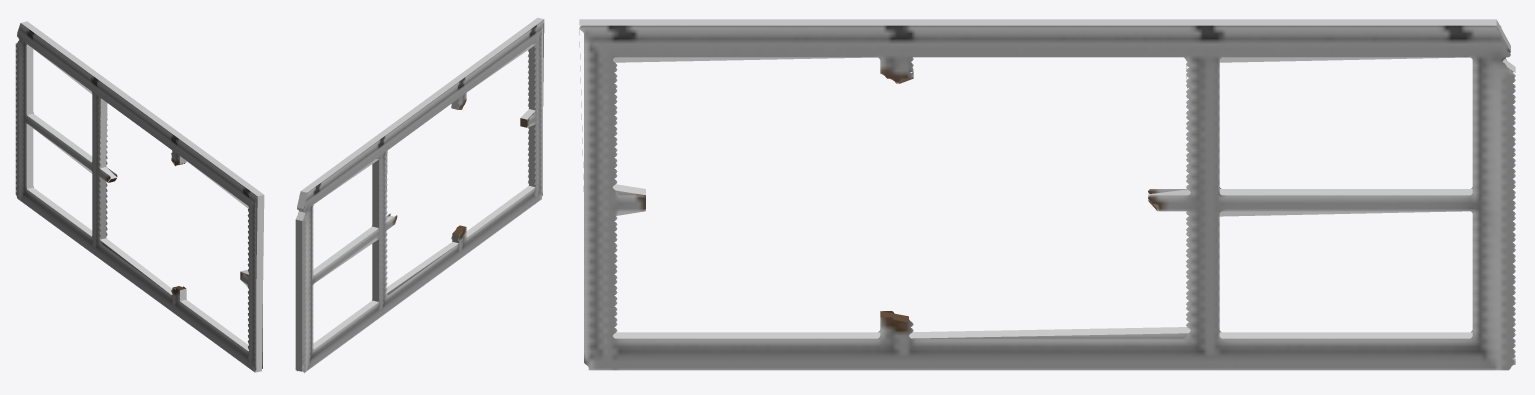
File: pz_native_fixtures_windows_white_102_frame.obj
The picture shows the model from 3 angles, left to right: view 1: azimuth 30°, elevation 25°; view 2: azimuth 150°, elevation 25°; view 3: azimuth 270°, elevation 25°; orthographic projection. The views are drawn at different scales.
Visible parts, largest first — view 1: pz_native_fixtures_windows_white_102_frame; view 2: pz_native_fixtures_windows_white_102_frame; view 3: pz_native_fixtures_windows_white_102_frame.
Boxes of the visible parts, left/top/right/bottom form: pz_native_fixtures_windows_white_102_frame: left=15, top=21, right=264, bottom=372; pz_native_fixtures_windows_white_102_frame: left=295, top=17, right=544, bottom=372; pz_native_fixtures_windows_white_102_frame: left=579, top=19, right=1515, bottom=370.
Bounding box in the file's own units: 0.04 × 1.06 × 2.53.
1 material, 1 textured.
